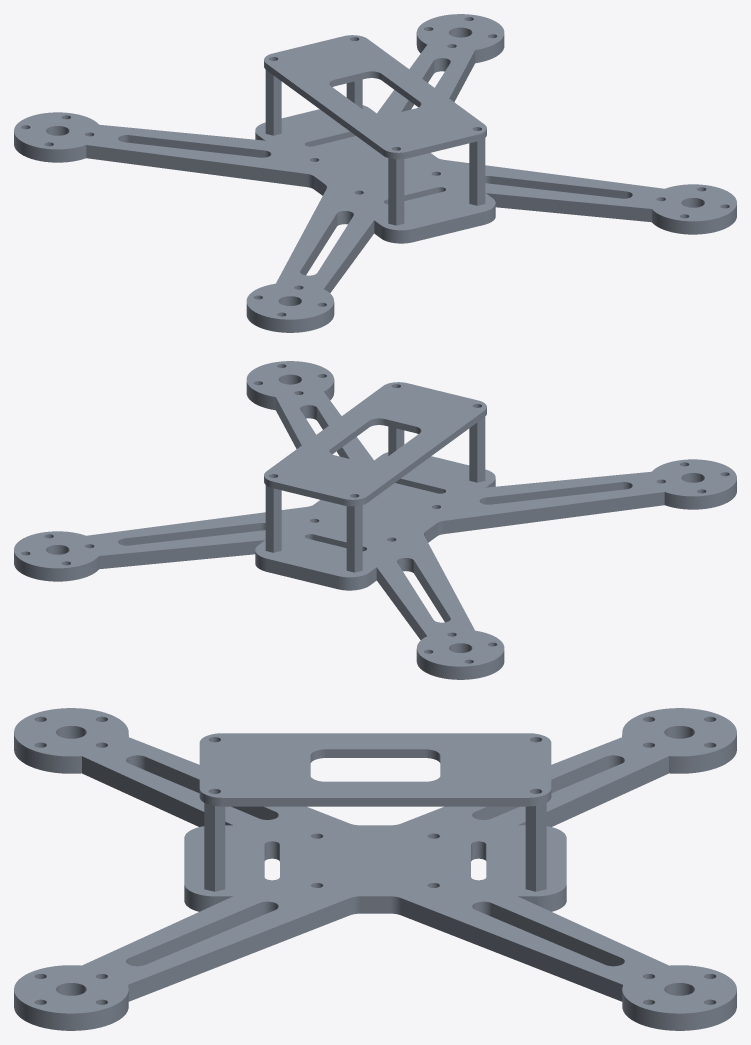
The model's file is step-5-preview-2.glb.
The picture shows the model from 3 angles, top to bottom: view 1: azimuth 30°, elevation 25°; view 2: azimuth 150°, elevation 25°; view 3: azimuth 270°, elevation 25°; orthographic projection. The views are drawn at different scales.
Parts seen in each view (by area): view 1: preview_4, preview_139, preview_16, preview_11, preview_6, preview_13, preview_46, preview_60, preview_18, preview_5, preview_118, preview_2 (+7 smaller); view 2: preview_4, preview_139, preview_8, preview_27, preview_18, preview_25, preview_75, preview_35, preview_6, preview_26, preview_118, preview_20 (+7 smaller); view 3: preview_4, preview_139, preview_15, preview_23, preview_125, preview_2, preview_20, preview_13, preview_25, preview_48, preview_73, preview_6 (+9 smaller).
Part boxes in pixels (box(x1,y1,x2,y2)): preview_4: box(14, 14, 736, 319); preview_139: box(264, 35, 486, 152); preview_16: box(86, 145, 307, 186); preview_11: box(486, 193, 651, 222); preview_6: box(246, 302, 334, 332); preview_13: box(652, 205, 736, 234); preview_46: box(490, 176, 626, 198); preview_60: box(129, 135, 264, 157); preview_18: box(14, 132, 86, 162); preview_5: box(413, 212, 483, 242); preview_118: box(266, 64, 383, 155); preview_2: box(324, 220, 374, 292); preview_4: box(14, 361, 736, 666); preview_139: box(264, 382, 486, 499); preview_8: box(443, 492, 664, 533); preview_27: box(99, 540, 264, 569); preview_18: box(416, 649, 504, 679); preview_25: box(14, 552, 98, 581); preview_75: box(124, 523, 260, 545); preview_35: box(486, 482, 621, 504); preview_6: box(664, 479, 736, 509); preview_26: box(267, 559, 337, 589); preview_118: box(367, 411, 484, 502); preview_20: box(376, 567, 426, 639); preview_4: box(14, 708, 736, 1013); preview_139: box(199, 733, 551, 797); preview_15: box(128, 898, 349, 1001); preview_23: box(401, 898, 622, 1001); preview_125: box(222, 798, 528, 806); preview_2: box(82, 756, 232, 826); preview_20: box(518, 756, 668, 826); preview_13: box(14, 991, 128, 1030); preview_25: box(622, 991, 736, 1030); preview_48: box(129, 903, 259, 966); preview_73: box(491, 903, 621, 966); preview_6: box(14, 734, 128, 773).
Size of the model in its own units: 0.1891 by 0.0325 by 0.1891.
